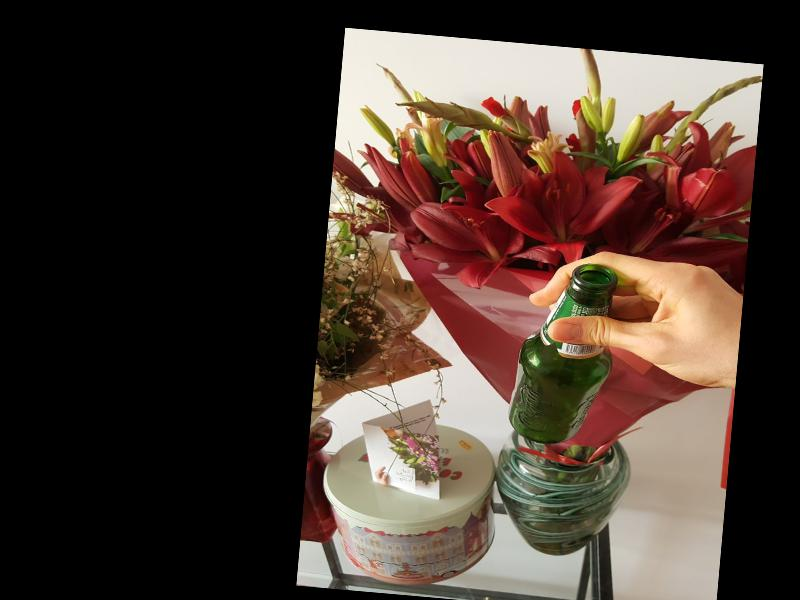Beer: (505, 258, 620, 448)
